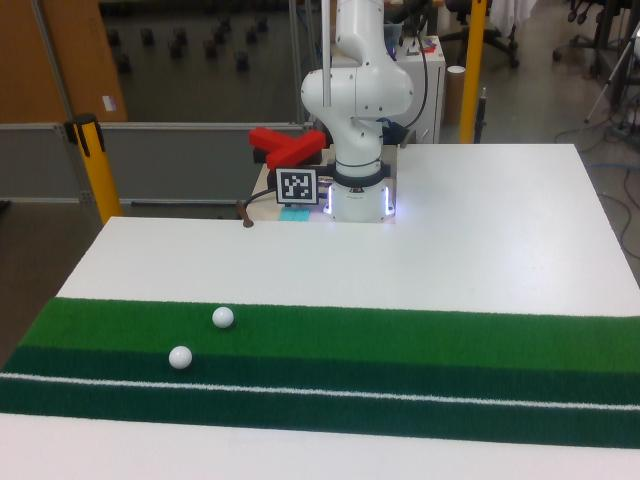golf_balls: (169, 346, 192, 369), (212, 307, 234, 328)
